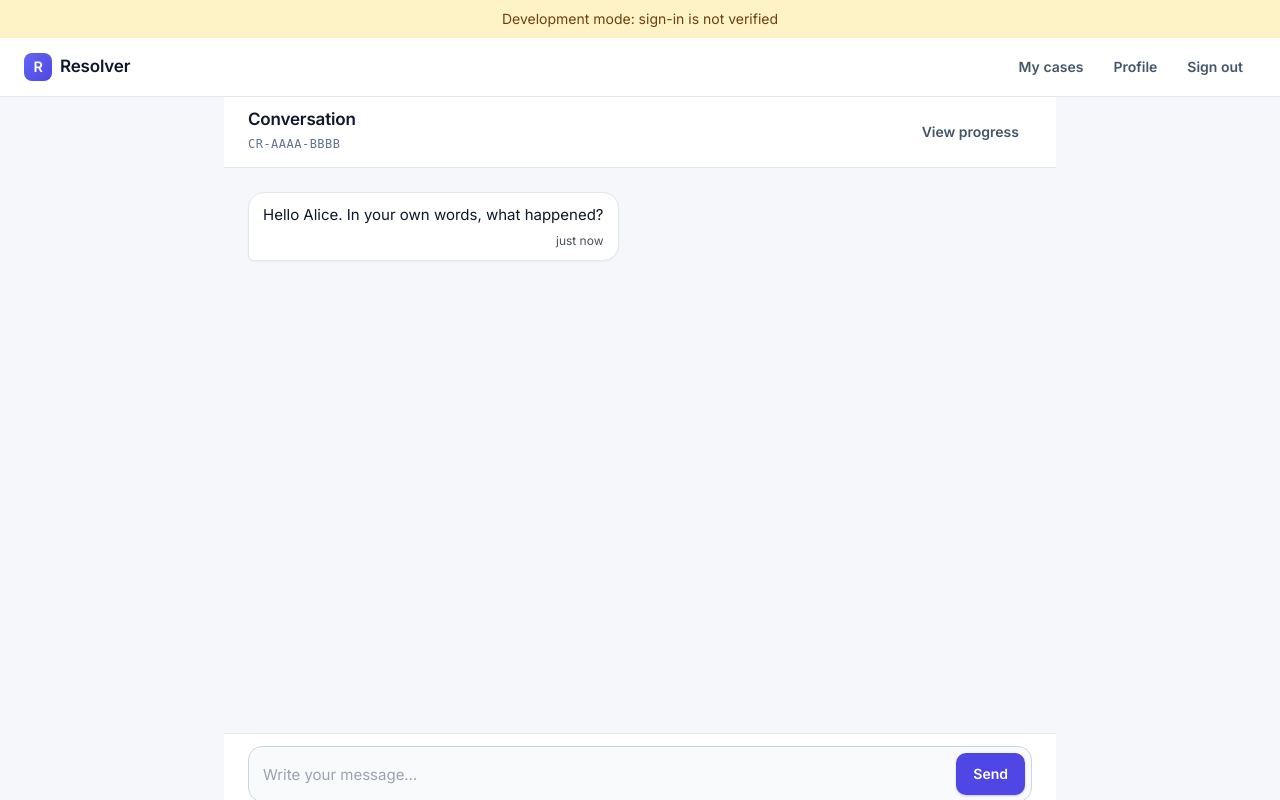
Test case: Chat › offers Retry when the AI fails but the message was saved
The image size is (1280, 800).
Expected: the text "Hello Alice. In your own words, what happened?" is shown, [263,205,604,224]
Type "hello" into the text box labelled "your message" at (606, 775), box [263,755,948,795]
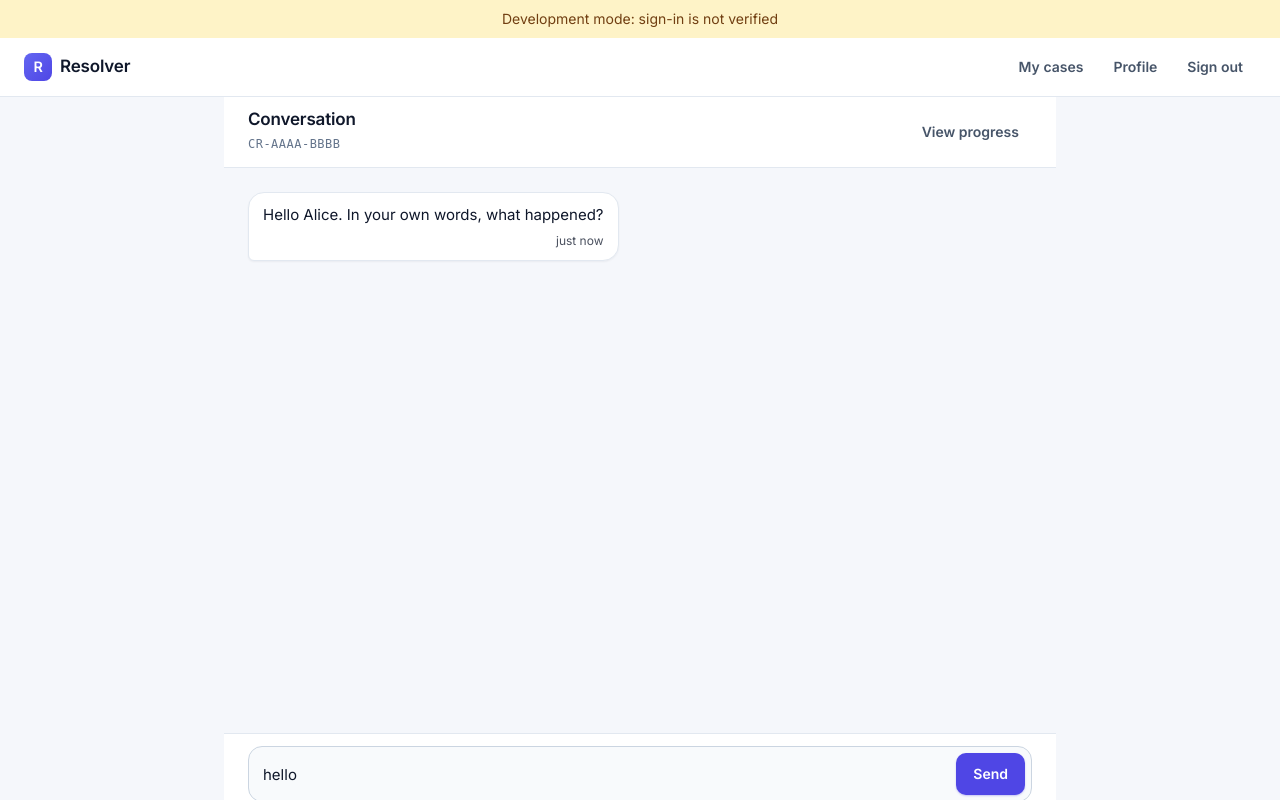
Click the button "Send" at (991, 774), box [956,753,1025,795]
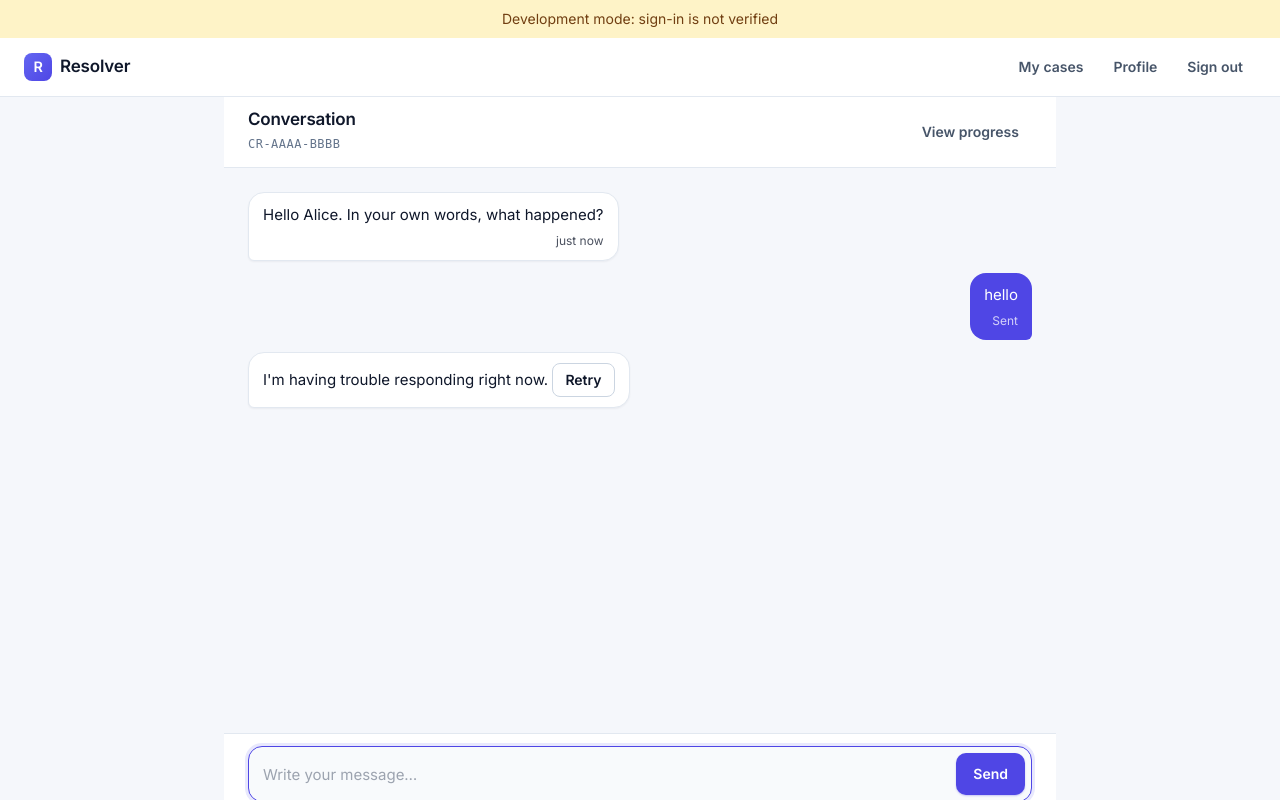
Result: the text "I'm having trouble responding right now." is shown at [263,370,548,389]
Click the button "Retry" at (584, 380), box [552,363,615,397]
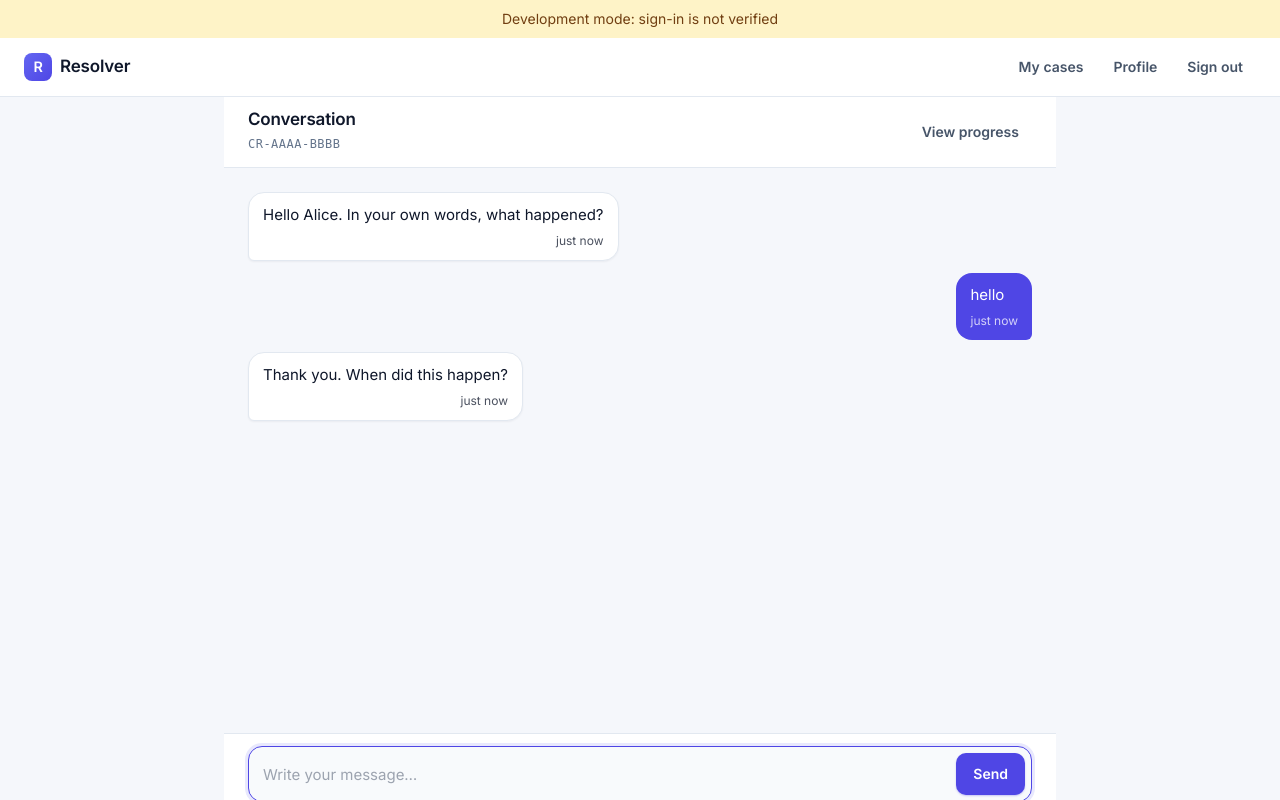
Result: the text "Thank you. When did this happen?" is shown at [263,365,508,384]
